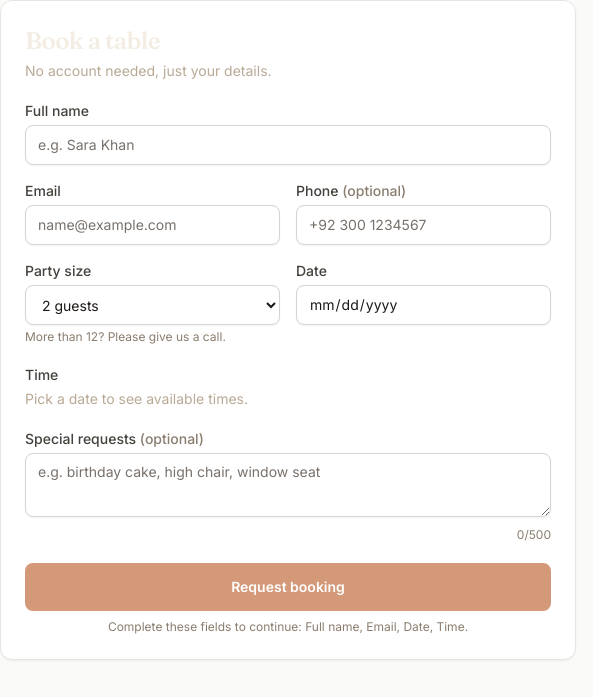
Scenario: BookingForm › rejects an invalid email as it is typed
In the field labelled "Email": (152, 225) [25,205,280,245], type "not-an-email"
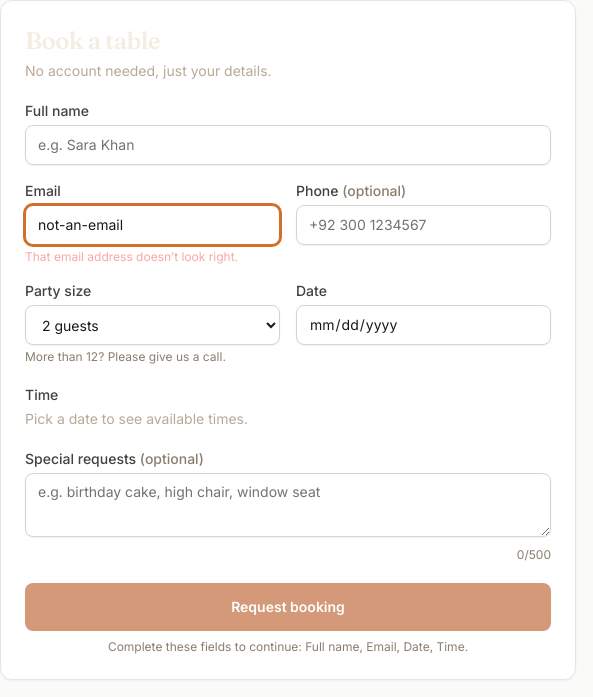
expect the text "That email address doesn’t look right." is shown: met, box [25,249,238,264]
